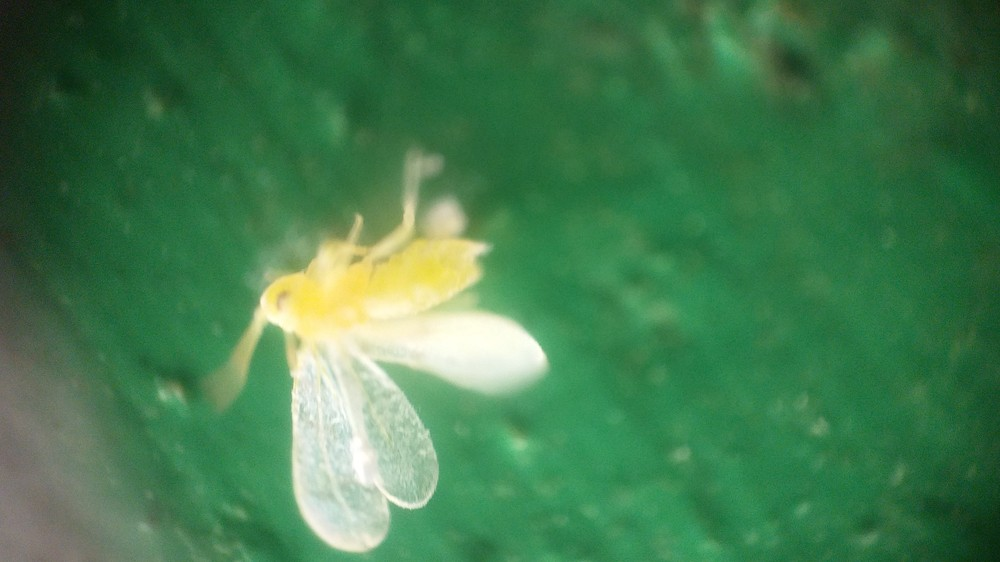Mosca Blanca: (200, 144, 570, 554)
